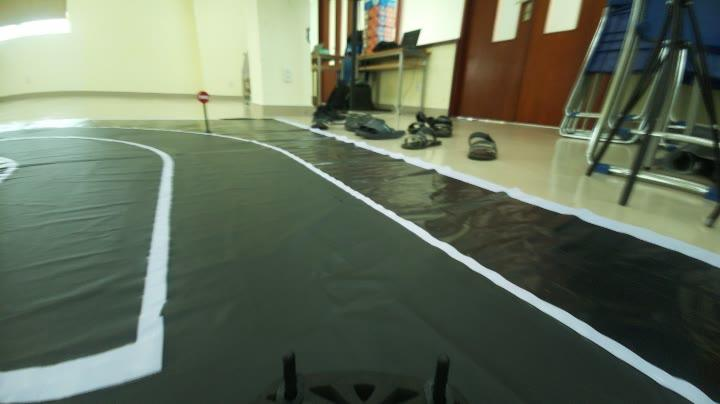no_entry: (192, 91, 216, 106)
